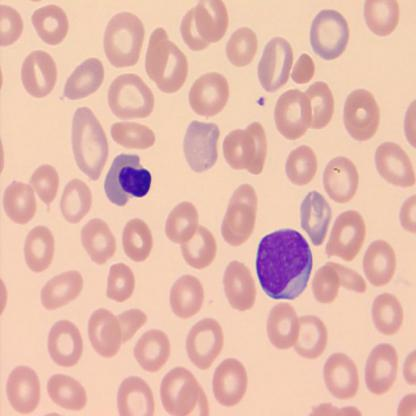NRC: (255, 226, 313, 300), (102, 152, 153, 207)
